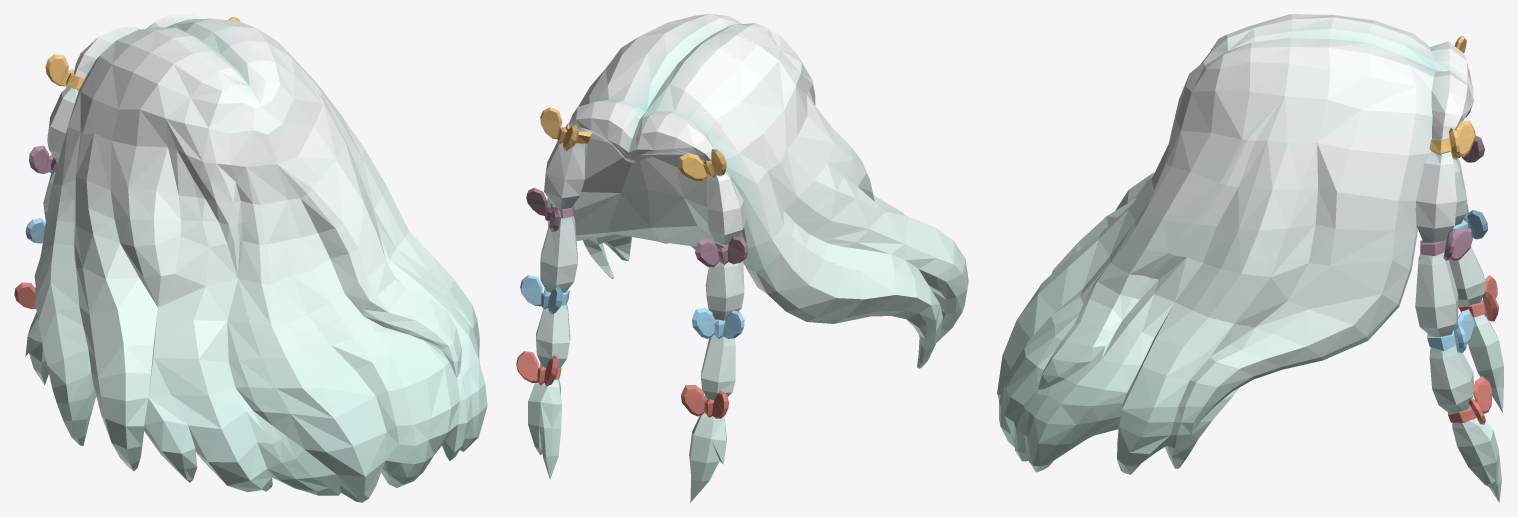
File: CharSkyKid_Hair_StyleButterflyClip.glb
3 views of the same model, side by side, from view 1: azimuth 30°, elevation 25°; view 2: azimuth 150°, elevation 25°; view 3: azimuth 270°, elevation 25° (orthographic). The views are drawn at different scales.
Visible parts, largest first — view 1: CharSkyKid_Hair_StyleButterflyClip; view 2: CharSkyKid_Hair_StyleButterflyClip; view 3: CharSkyKid_Hair_StyleButterflyClip.
Boxes of the visible parts, x1,y1,x2,y2 form: CharSkyKid_Hair_StyleButterflyClip: (14,14,487,502); CharSkyKid_Hair_StyleButterflyClip: (516,14,968,502); CharSkyKid_Hair_StyleButterflyClip: (997,14,1503,502).
Bounding box in the file's own units: 4.86 × 4.85 × 5.11.
1 material, 1 textured.
